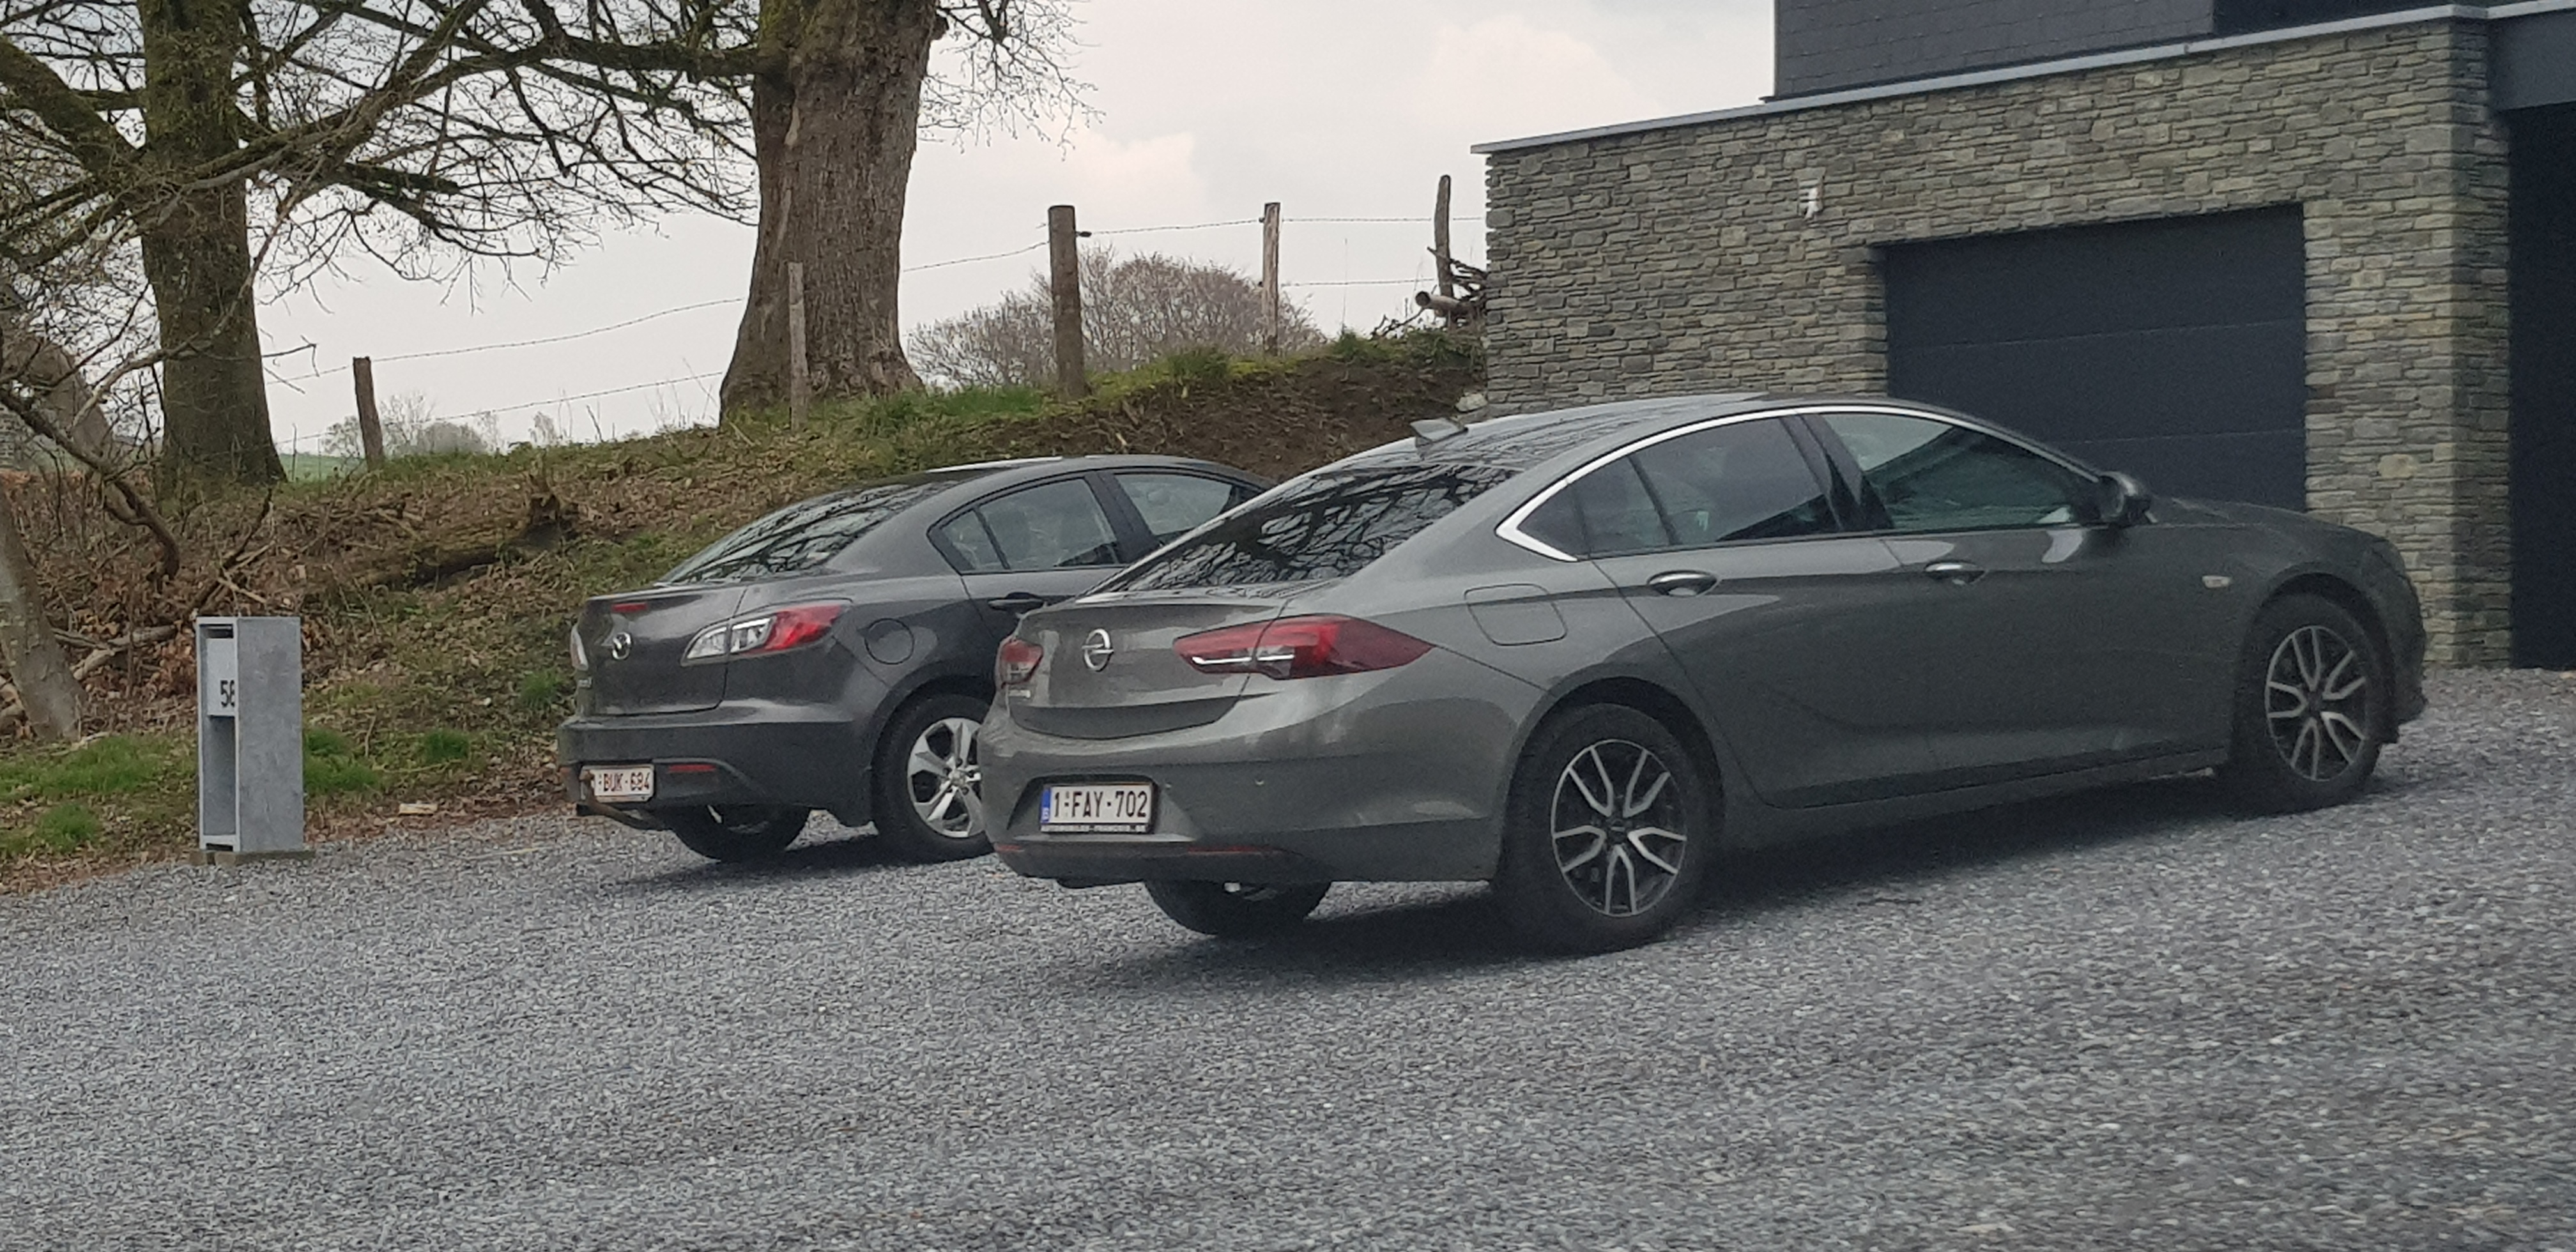licenceplate: (1039, 782, 1152, 826), (583, 765, 656, 795)
